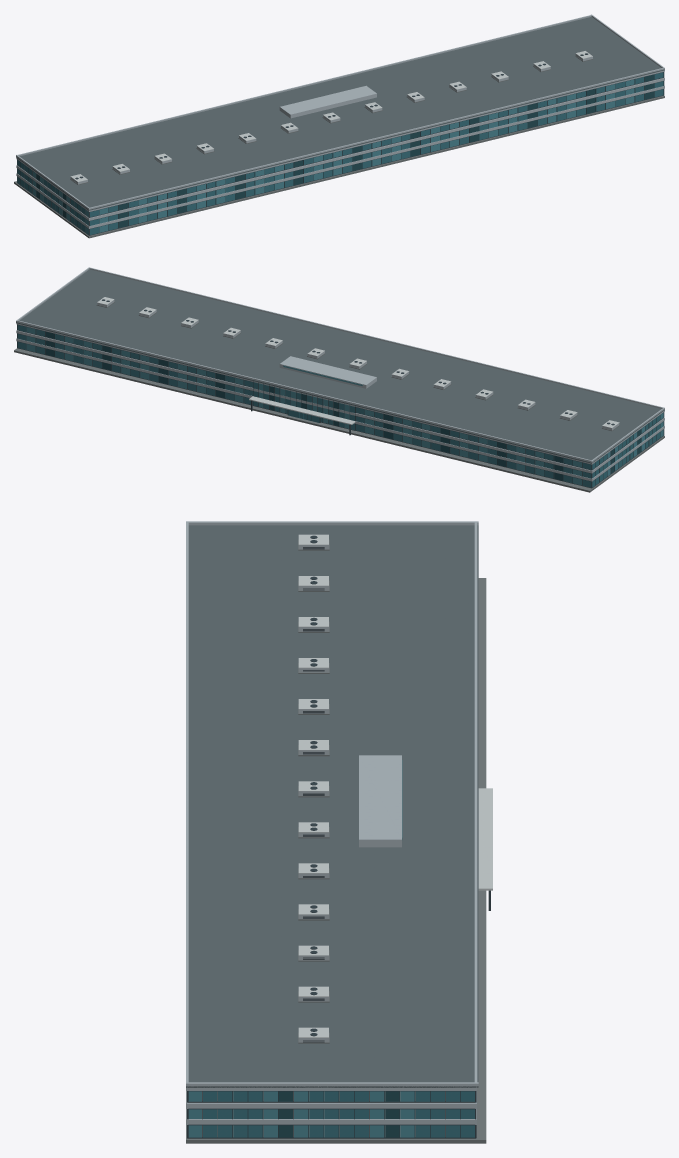
Rendered from CMN_admin_long.glb.
The picture shows the model from 3 angles, top to bottom: view 1: azimuth 30°, elevation 25°; view 2: azimuth 150°, elevation 25°; view 3: azimuth 270°, elevation 25°; orthographic projection. The views are drawn at different scales.
Visible parts, largest first — view 1: CMN_admin_long; view 2: CMN_admin_long; view 3: CMN_admin_long.
Part boxes in pixels (x1=…): CMN_admin_long: x1=14, y1=14, x2=664, y2=238; CMN_admin_long: x1=14, y1=267, x2=664, y2=492; CMN_admin_long: x1=186, y1=521, x2=492, y2=1143.
Bounding box in the file's own units: 260 × 14 × 60.
9 materials, 9 textured.
